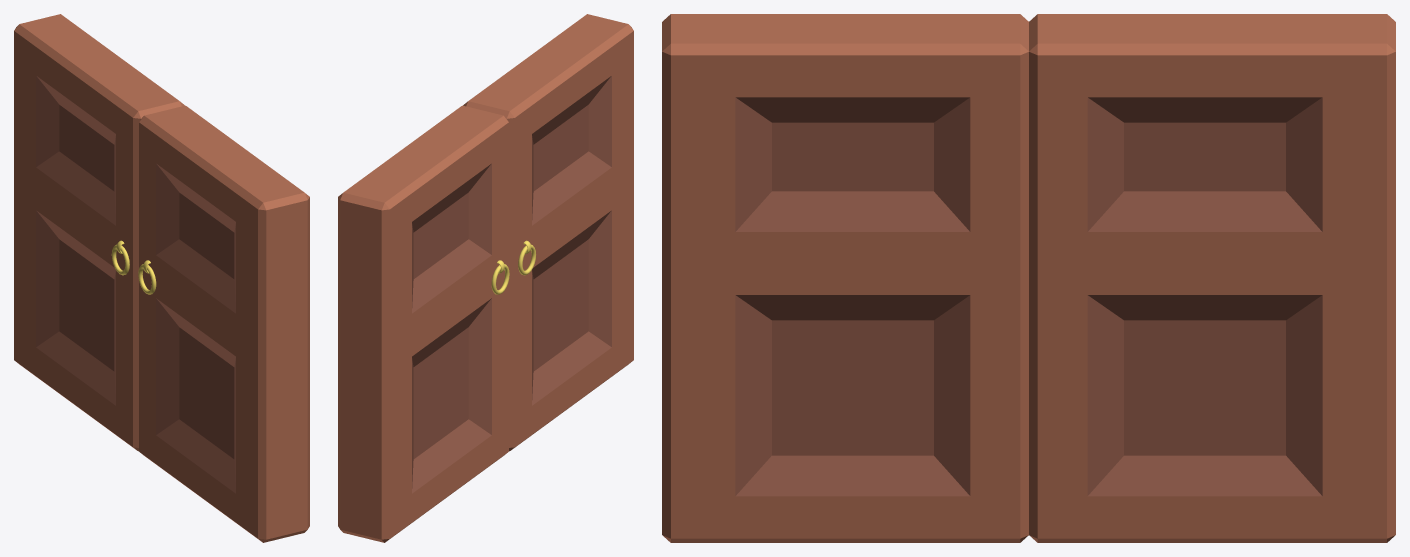
File: MainEntrance_Door.fbx
The picture shows the model from 3 angles, left to right: view 1: azimuth 30°, elevation 25°; view 2: azimuth 150°, elevation 25°; view 3: azimuth 270°, elevation 25°; orthographic projection. The views are drawn at different scales.
Parts seen in each view (by area): view 1: Door, Handles; view 2: Door, Handles; view 3: Door.
Boxes of the visible parts, bbox=[...] form: Door: bbox=[14, 14, 309, 542]; Handles: bbox=[111, 240, 156, 294]; Door: bbox=[338, 14, 633, 542]; Handles: bbox=[491, 240, 536, 294]; Door: bbox=[662, 14, 1395, 542].
Size of the model in its own units: 1.06 by 6.04 by 8.05.
